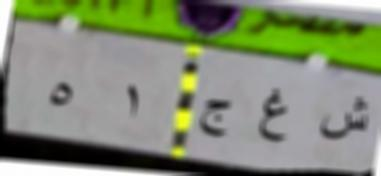1: (122, 80, 144, 125)
5: (46, 76, 80, 116)
ghayn: (258, 82, 292, 148)
jeem: (197, 92, 234, 146)
sheen: (312, 91, 370, 147)
